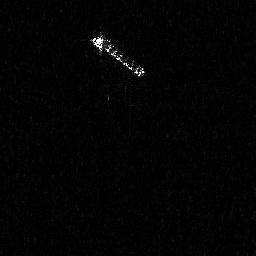ship: (89, 25, 146, 80)
